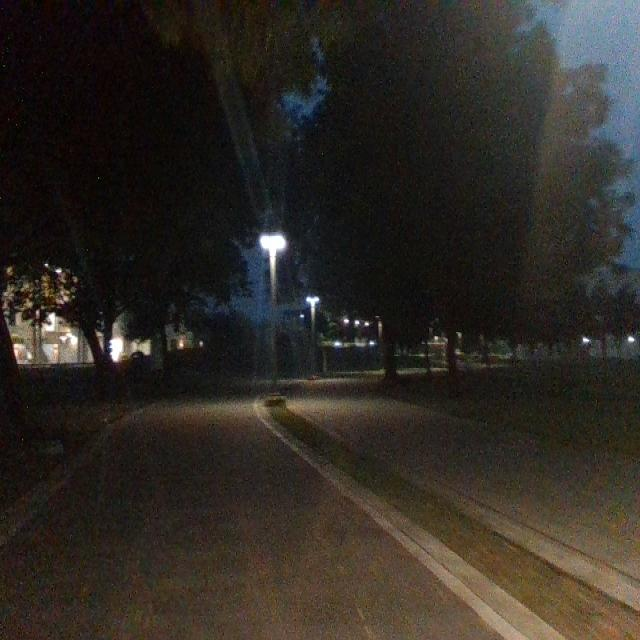lane: (5, 402, 507, 640)
